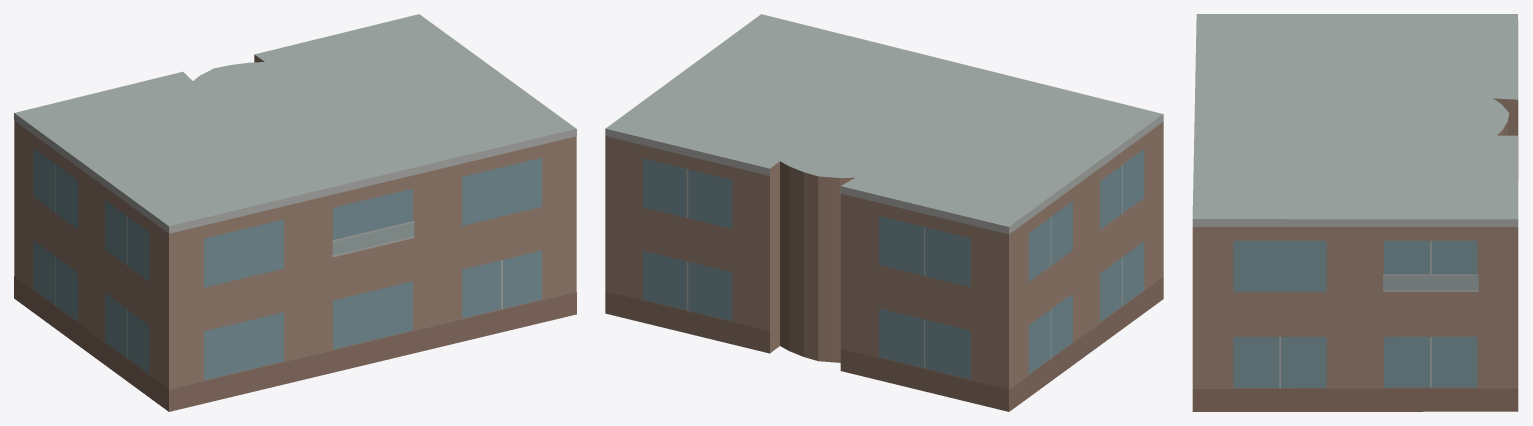
File: survey-upis-33030996.glb
3 renders of one model, left to right at view 1: azimuth 30°, elevation 25°; view 2: azimuth 150°, elevation 25°; view 3: azimuth 270°, elevation 25°, orthographic. The views are drawn at different scales.
Visible parts, largest first — view 1: survey-upis-33030996.tmp; view 2: survey-upis-33030996.tmp; view 3: survey-upis-33030996.tmp.
Boxes of the visible parts, x1=… form: survey-upis-33030996.tmp: x1=14, y1=14, x2=576, y2=411; survey-upis-33030996.tmp: x1=605, y1=14, x2=1163, y2=411; survey-upis-33030996.tmp: x1=1192, y1=14, x2=1518, y2=411.
Bounding box in the file's own units: 14 × 6.1 × 9.37.
